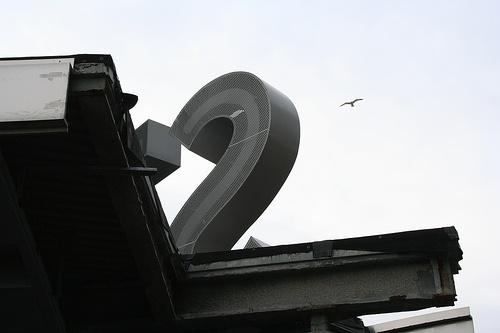bird: (339, 98, 366, 110)
